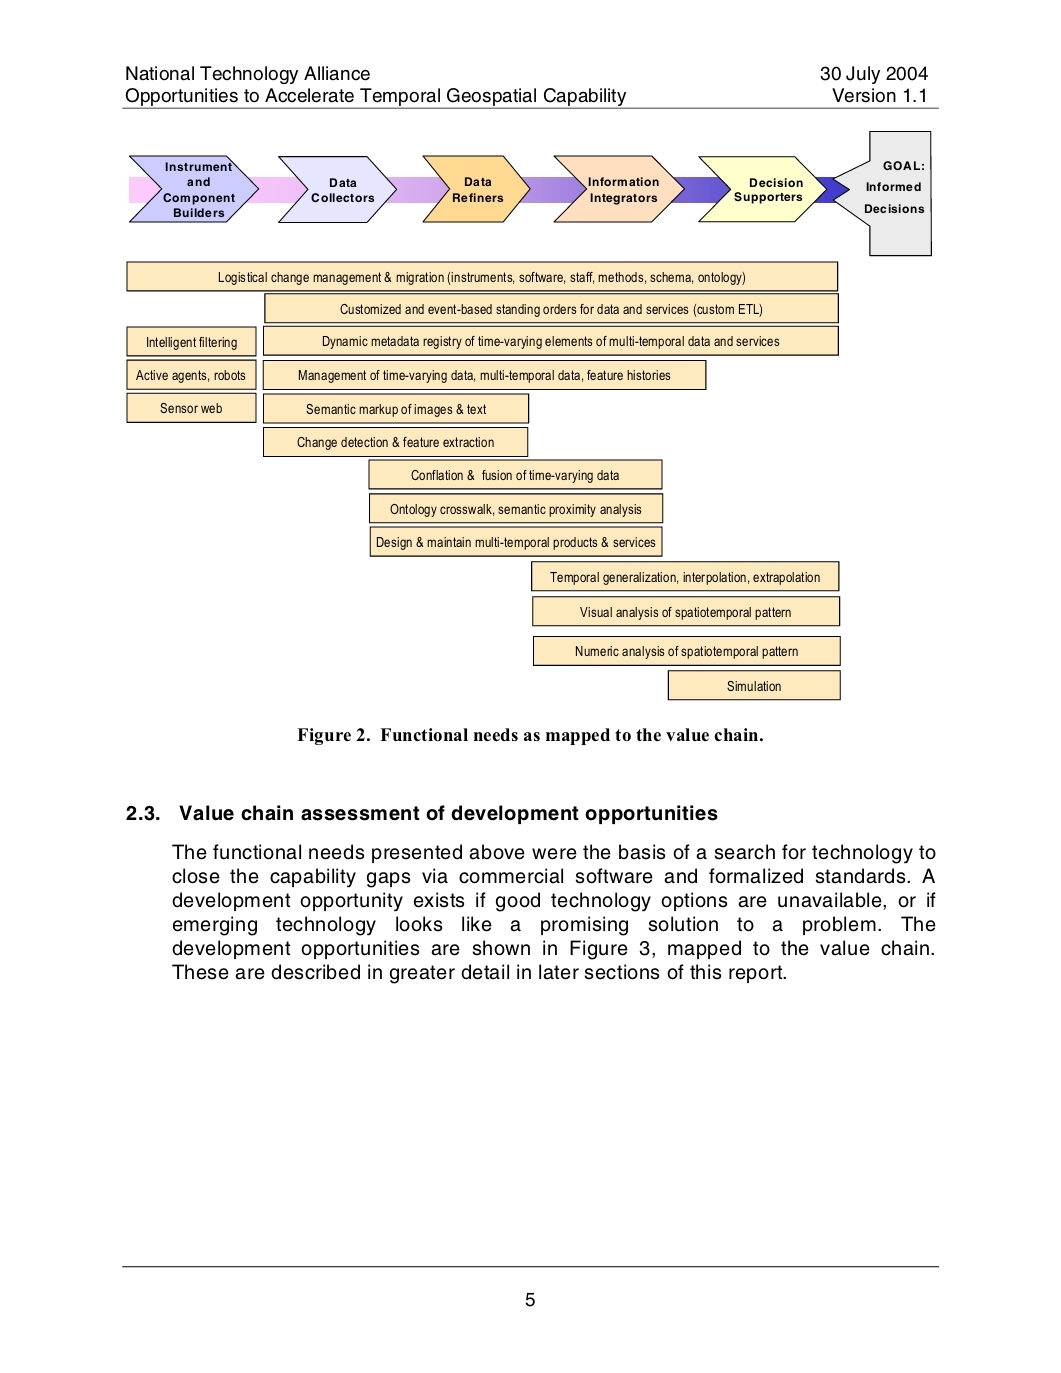figure: (126, 132, 931, 700), (121, 1265, 938, 1268)
